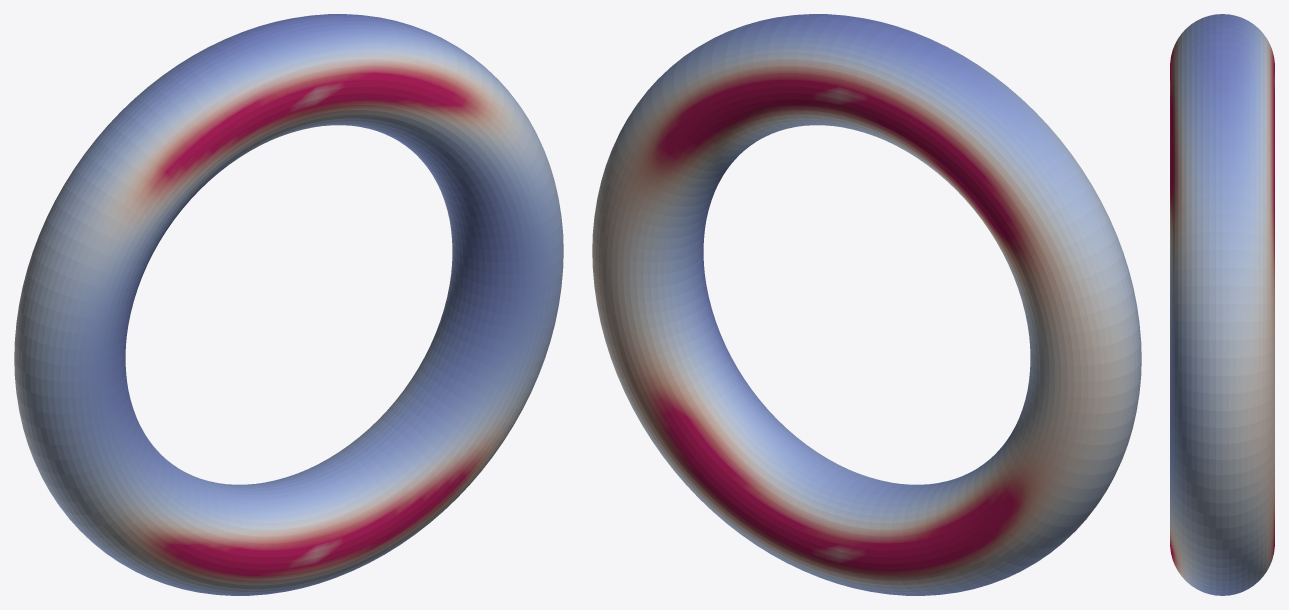
The picture shows the model from 3 angles, left to right: view 1: azimuth 30°, elevation 25°; view 2: azimuth 150°, elevation 25°; view 3: azimuth 270°, elevation 25°; orthographic projection. The views are drawn at different scales.
Parts seen in each view (by area): view 1: world; view 2: world; view 3: world.
Part boxes in pixels (bbox=[...]): world: bbox=[14, 14, 563, 595]; world: bbox=[592, 14, 1141, 595]; world: bbox=[1170, 14, 1274, 595].
Bounding box in the file's own units: 24.4 × 24.4 × 4.39.
